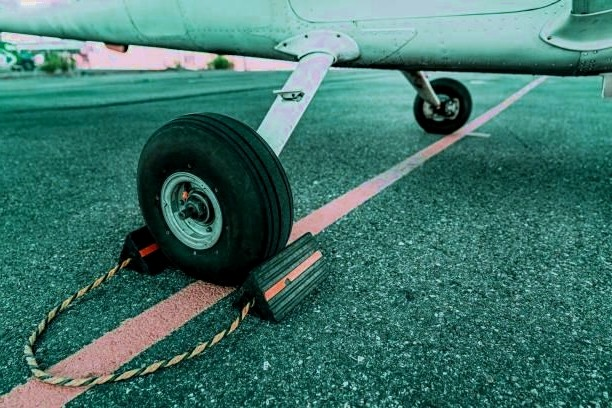chock: (230, 229, 334, 323), (116, 221, 185, 276)
wheel: (135, 112, 295, 286), (414, 75, 475, 135)
